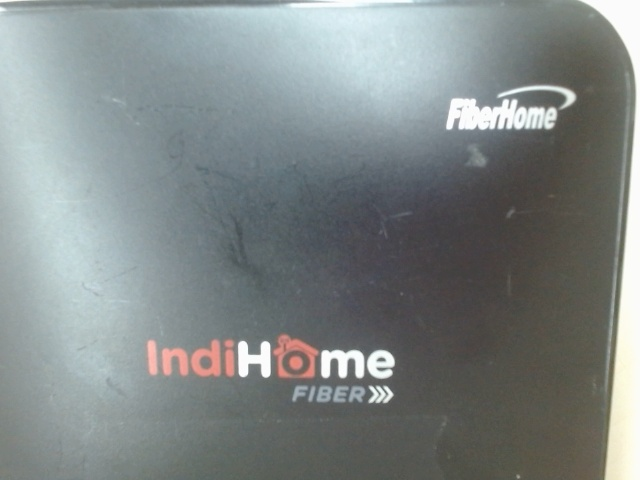AF_IndiHome: (129, 328, 409, 411)
